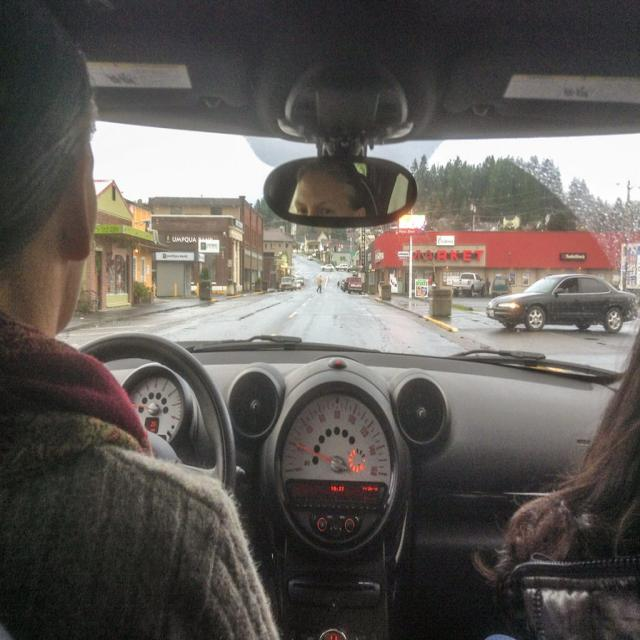car: (280, 274, 290, 291), (320, 263, 333, 269), (307, 253, 311, 260)
